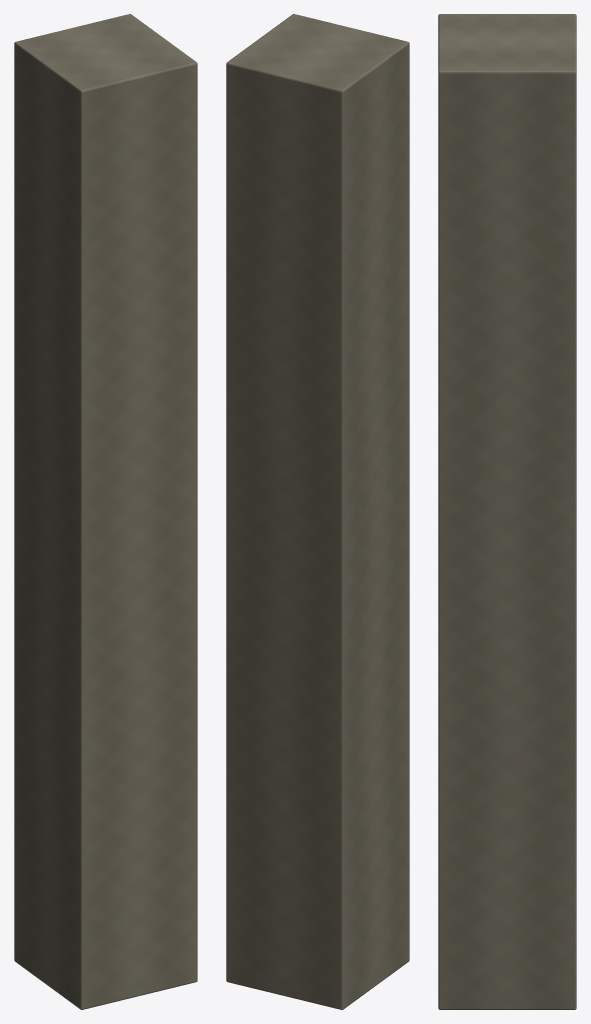
Rendered from MRP_Stilt_1p2m.fbx.
3 renders of one model, left to right at view 1: azimuth 30°, elevation 25°; view 2: azimuth 150°, elevation 25°; view 3: azimuth 270°, elevation 25°, orthographic. The views are drawn at different scales.
Parts seen in each view (by area): view 1: Body; view 2: Body; view 3: Body.
Part boxes in pixels (box(x1,y1,x2,y2)): Body: box(14, 14, 197, 1009); Body: box(226, 14, 409, 1009); Body: box(438, 14, 576, 1009).
Size of the model in its own units: 0.16 by 1.2 by 0.16.
